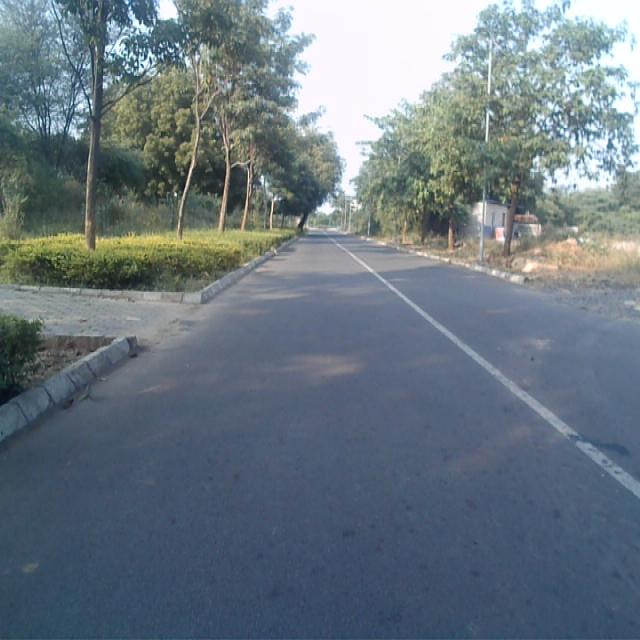lane: (0, 234, 640, 640)
